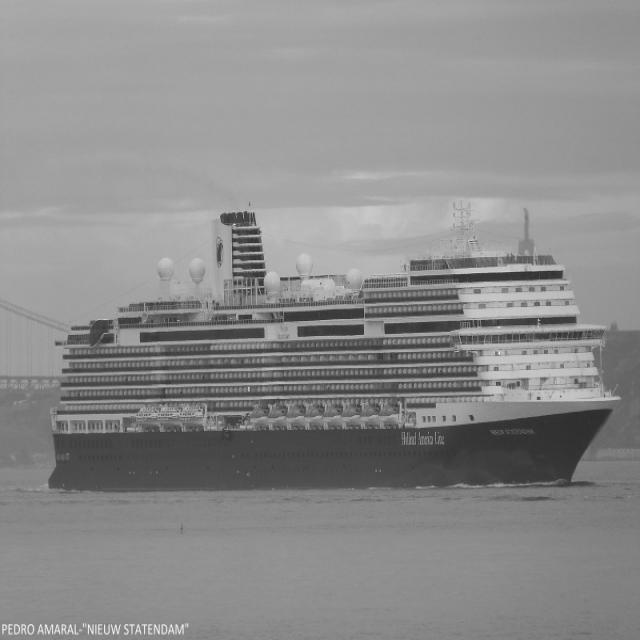cruises: (45, 192, 624, 498)
